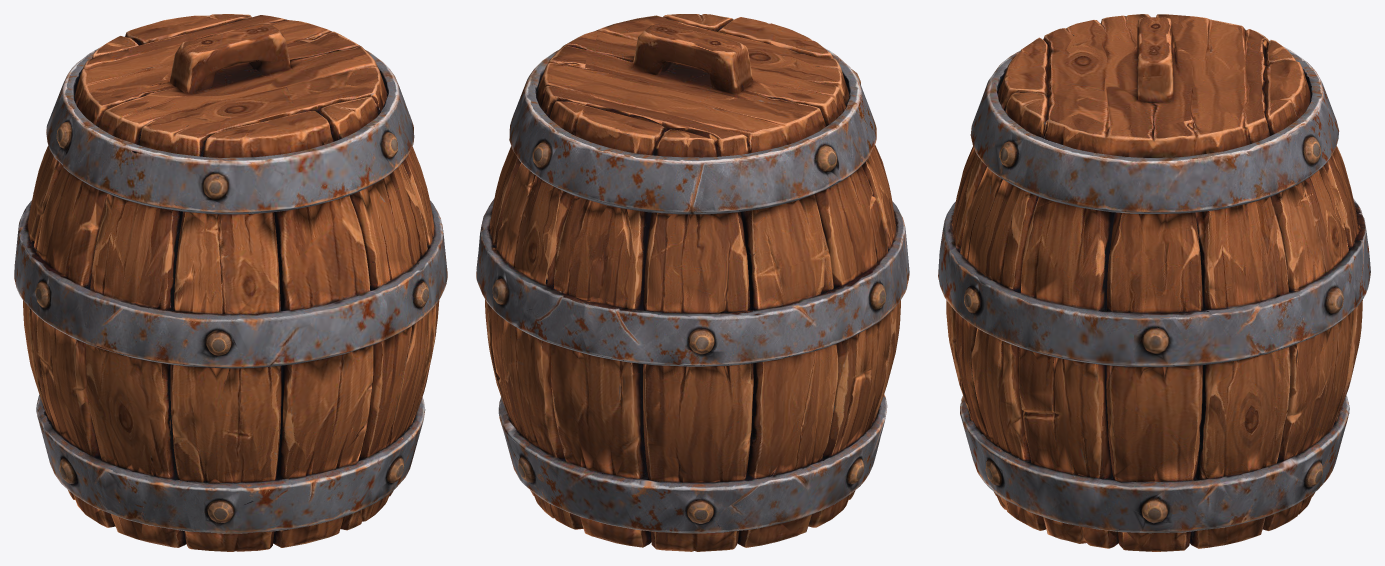
The model's file is barrel.glb.
The picture shows the model from 3 angles, left to right: view 1: azimuth 30°, elevation 25°; view 2: azimuth 150°, elevation 25°; view 3: azimuth 270°, elevation 25°; orthographic projection.
Size of the model in its own units: 1.71 by 1.9 by 1.67.
1 material, 1 textured.
